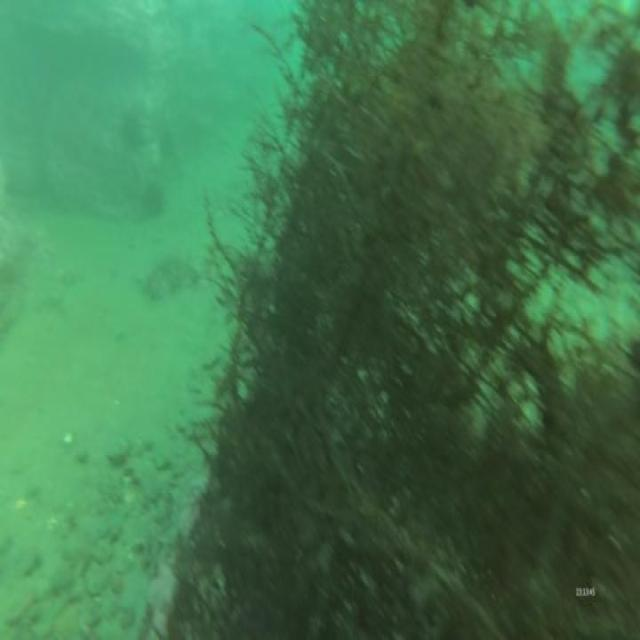waterweeds: (149, 1, 639, 640)
